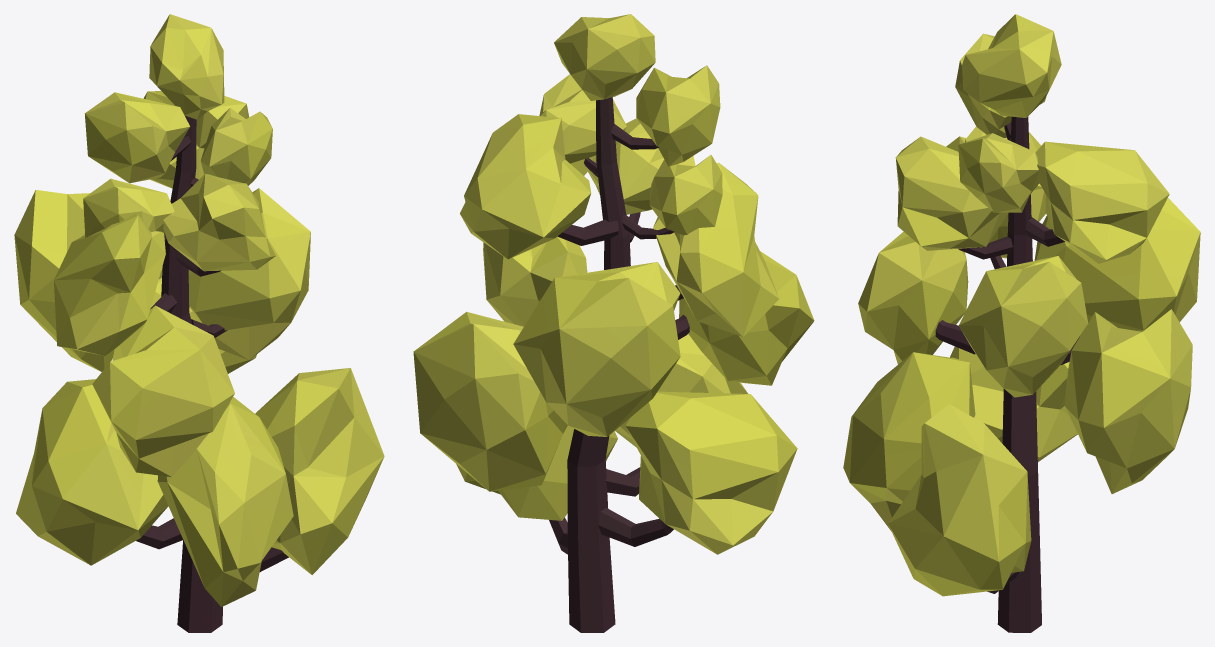
Rendered from tree6.fbx.
3 views of the same model, side by side, from view 1: azimuth 30°, elevation 25°; view 2: azimuth 150°, elevation 25°; view 3: azimuth 270°, elevation 25° (orthographic). The views are drawn at different scales.
Parts seen in each view (by area): view 1: Cylinder.007; view 2: Cylinder.007; view 3: Cylinder.007.
Boxes of the visible parts, x1,y1,x2,y2 form: Cylinder.007: [14, 14, 384, 632]; Cylinder.007: [413, 14, 814, 632]; Cylinder.007: [843, 14, 1200, 632].
Bounding box in the file's own units: 504 × 871 × 475.
